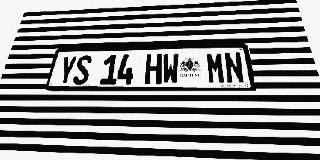1: (100, 55, 119, 84)
4: (116, 54, 135, 84)
H: (145, 54, 162, 84)
M: (206, 52, 226, 84)
N: (223, 52, 245, 84)
S: (72, 55, 93, 85)
W: (162, 53, 179, 84)
Y: (57, 56, 78, 85)
